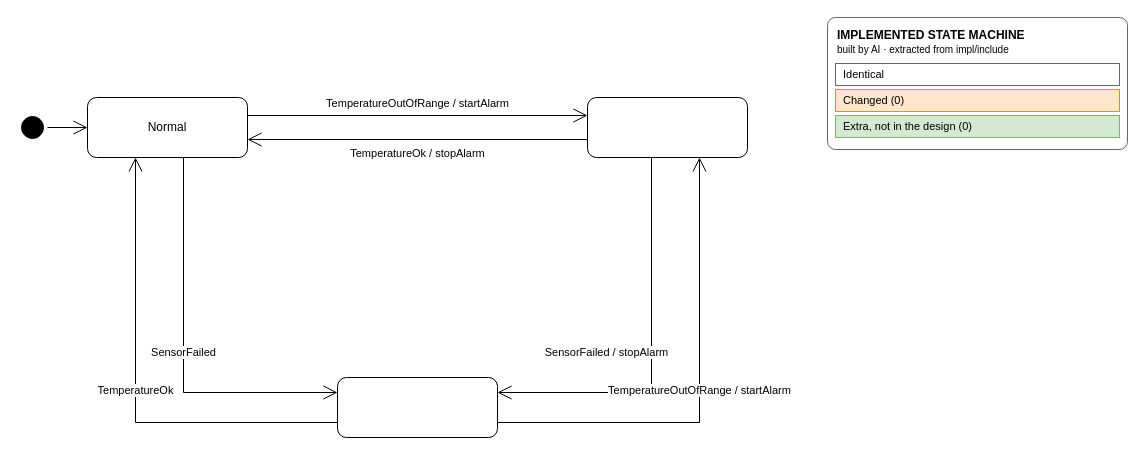
The diagram is 1145 pixels wide and 455 high, and some of its shapes have lost their labels. The centre of each missing label's shape, as x and y in pixels:
Alarming: pixel 667 127
SensorFault: pixel 417 407
